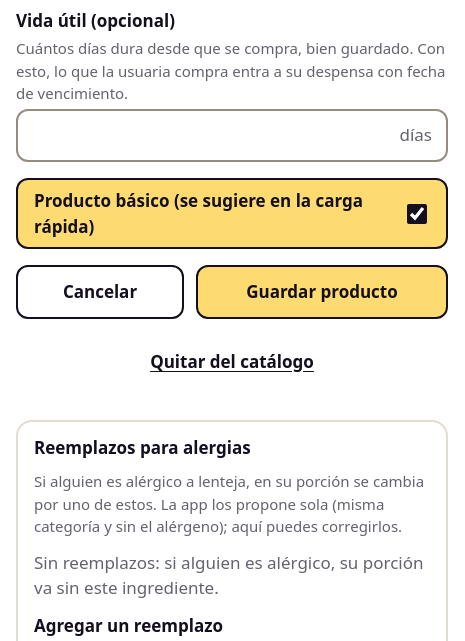
Scenario: Catálogo del curador (pantallas 43 y 44) › muestra el detalle de validación del backend
The image size is (465, 641).
(page scrolled)
Click the button "Guardar producto" at (322, 292), box left=196, top=265, right=448, bottom=318
(page scrolled)
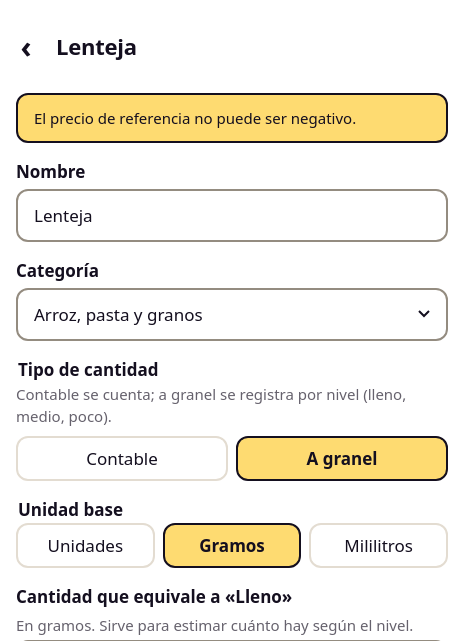
Expected: the message reads "El precio de referencia no puede ser negativo.", left=34, top=108, right=356, bottom=128
